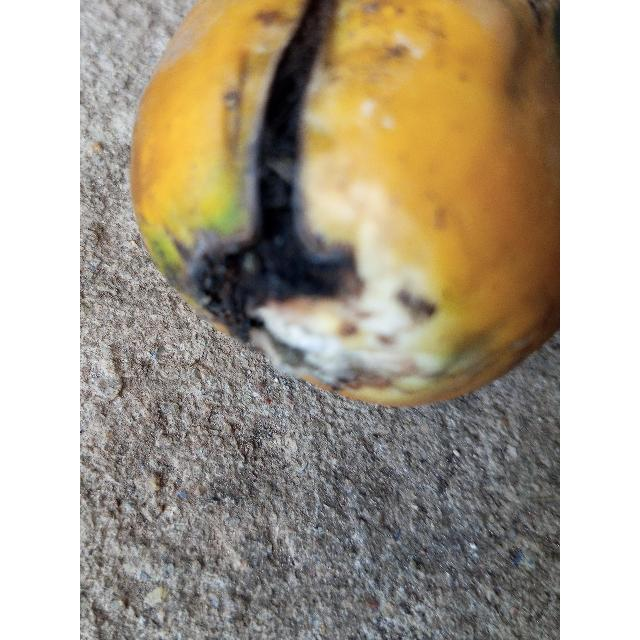damaged: (130, 0, 560, 410)
